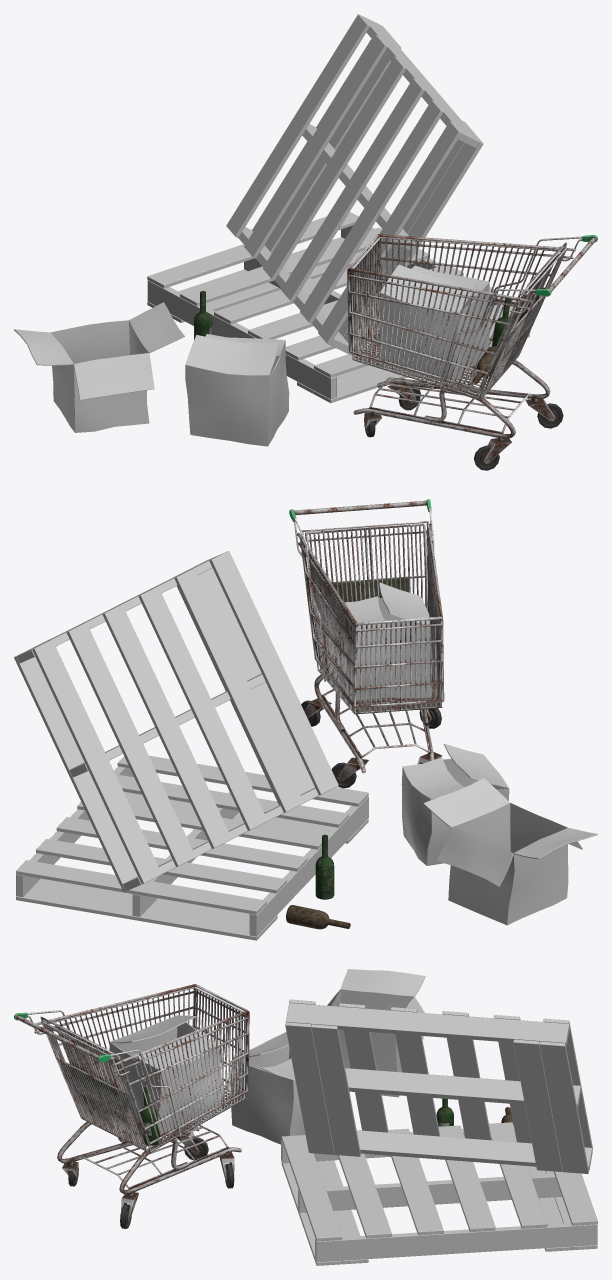
Rendered from trash(FBX).fbx.
3 views of the same model, one above another, from view 1: azimuth 30°, elevation 25°; view 2: azimuth 150°, elevation 25°; view 3: azimuth 270°, elevation 25° (orthographic). The views are drawn at different scales.
Parts seen in each view (by area): view 1: pallet_2, cart, boxes_1, pallet_1, boxes_2, bottles_2; view 2: pallet_2, pallet_1, cart, boxes_1, boxes_2, bottles_1; view 3: pallet_2, pallet_1, cart, boxes_1, boxes_2, bottles_2, bottles_1.
Part boxes in pixels (<box>): pallet_2: <box>226,14,483,355</box>; cart: <box>347,234,597,470</box>; boxes_1: <box>14,302,289,446</box>; pallet_1: <box>147,212,530,403</box>; boxes_2: <box>379,264,489,384</box>; bottles_2: <box>473,298,510,383</box>; pallet_2: <box>14,551,338,891</box>; pallet_1: <box>16,755,368,940</box>; cart: <box>289,499,444,788</box>; boxes_1: <box>401,743,597,925</box>; boxes_2: <box>338,582,430,700</box>; bottles_1: <box>286,834,350,929</box>; pallet_2: <box>285,999,592,1173</box>; pallet_1: <box>281,1122,597,1265</box>; cart: <box>14,984,249,1228</box>; boxes_1: <box>231,969,425,1144</box>; boxes_2: <box>109,1015,222,1134</box>; bottles_2: <box>134,1086,160,1145</box>; bottles_1: <box>436,1098,513,1126</box>.
Bounding box in the file's own units: 233 × 112 × 258.
